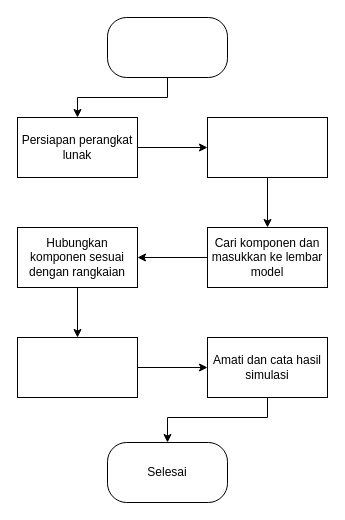
Image size: 345x520. Some labels were removed from this diagram. The box of each missing label's shape, as (x1, y1, x2, y2) in pixels:
Buat lembar model baru: (206, 116, 328, 178)
Jalankan simulasi rangkain: (16, 336, 138, 398)
Mulai: (106, 16, 228, 78)
